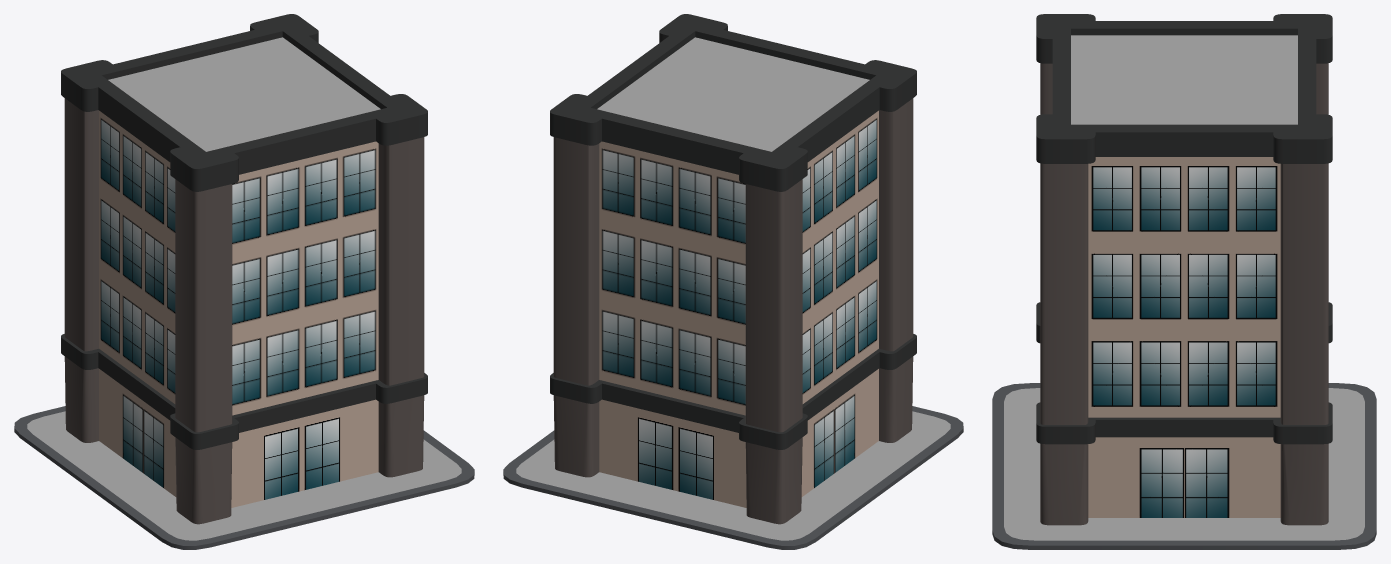
The model's file is Neutre_Bat_1.fbx.
The picture shows the model from 3 angles, left to right: view 1: azimuth 30°, elevation 25°; view 2: azimuth 150°, elevation 25°; view 3: azimuth 270°, elevation 25°; orthographic projection. The views are drawn at different scales.
Visible parts, largest first — view 1: Neutre_Bat_1; view 2: Neutre_Bat_1; view 3: Neutre_Bat_1.
Boxes of the visible parts, x1,y1,x2,y2 form: Neutre_Bat_1: (14,14,474,549); Neutre_Bat_1: (503,14,963,549); Neutre_Bat_1: (992,14,1376,549).
Bounding box in the file's own units: 315 × 354 × 315.
